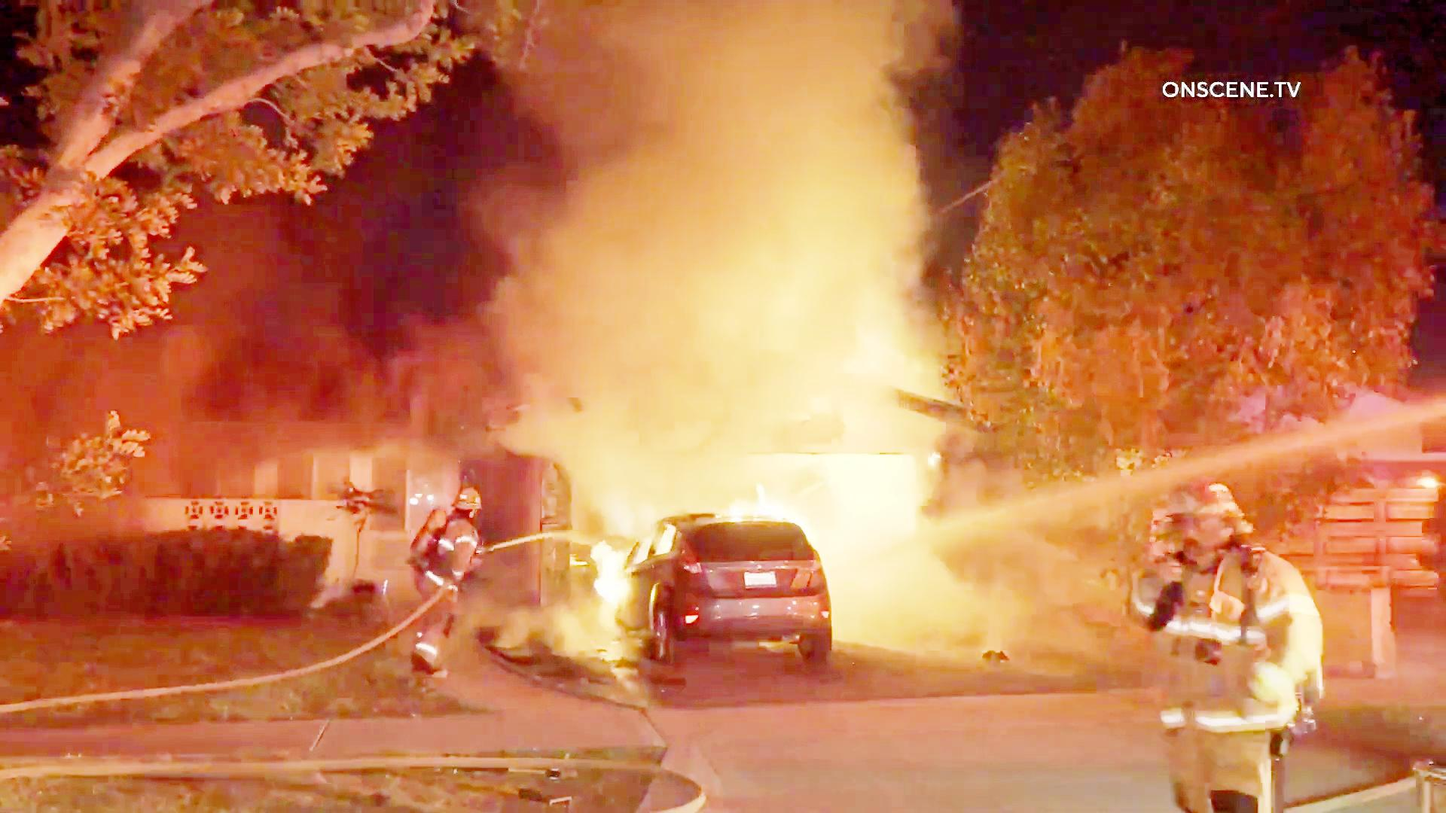fire: (701, 475, 838, 539), (584, 567, 624, 619)
smoke: (418, 140, 909, 440), (599, 8, 959, 150), (885, 567, 1054, 669)
